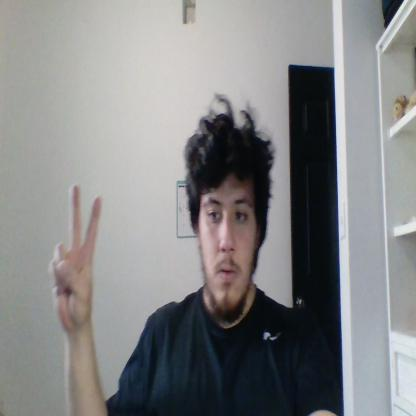V: (48, 186, 103, 330)
